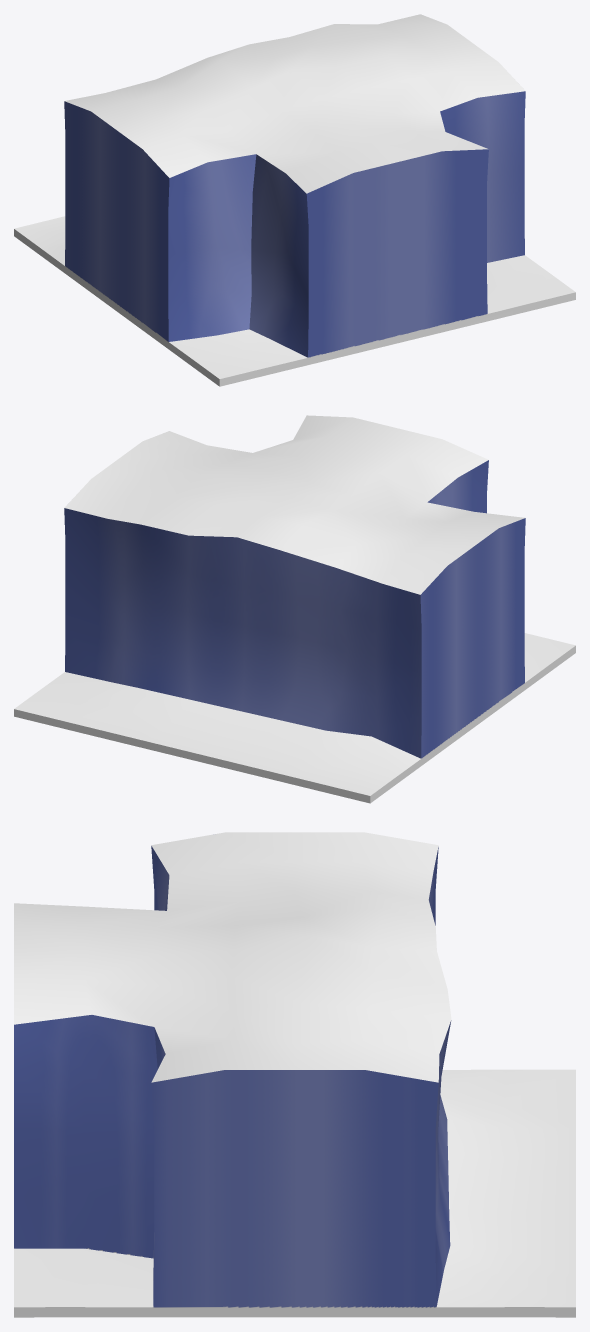
Rendered from wall_slim_join3_1.glb.
3 views of the same model, one above another, from view 1: azimuth 30°, elevation 25°; view 2: azimuth 150°, elevation 25°; view 3: azimuth 270°, elevation 25° (orthographic). The views are drawn at different scales.
Visible parts, largest first — view 1: wall_slim_join3_1.001; view 2: wall_slim_join3_1.001; view 3: wall_slim_join3_1.001.
Boxes of the visible parts, x1=… form: wall_slim_join3_1.001: x1=14, y1=14, x2=575, y2=386; wall_slim_join3_1.001: x1=14, y1=415, x2=575, y2=803; wall_slim_join3_1.001: x1=14, y1=832, x2=575, y2=1317.
Size of the model in its own units: 2 by 1.04 by 2.
Materials: 1 (1 with a texture image).
